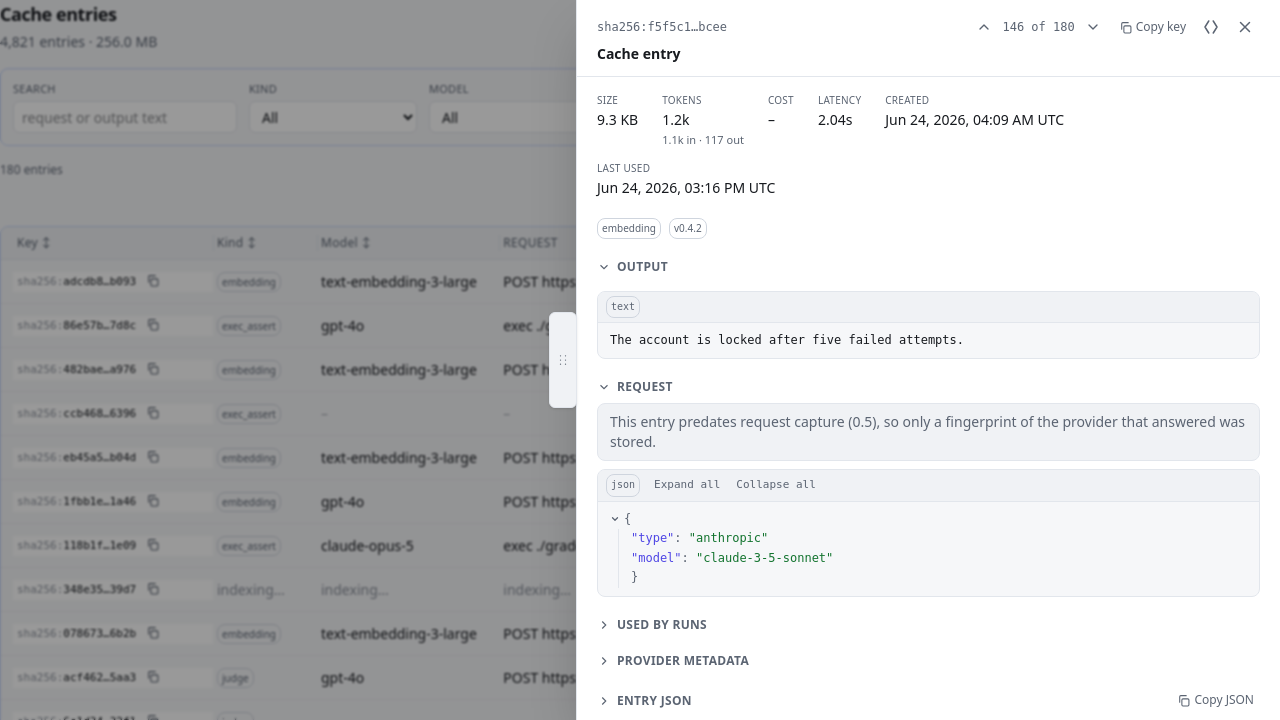
Scenario: CacheEntryDrawer › says an empty run list is not evidence the entry is unused
The width and height of the screenshot is (1280, 720).
Click the button "Used by runs" at (662,624), box x1=597 y1=616 x2=1260 y2=632
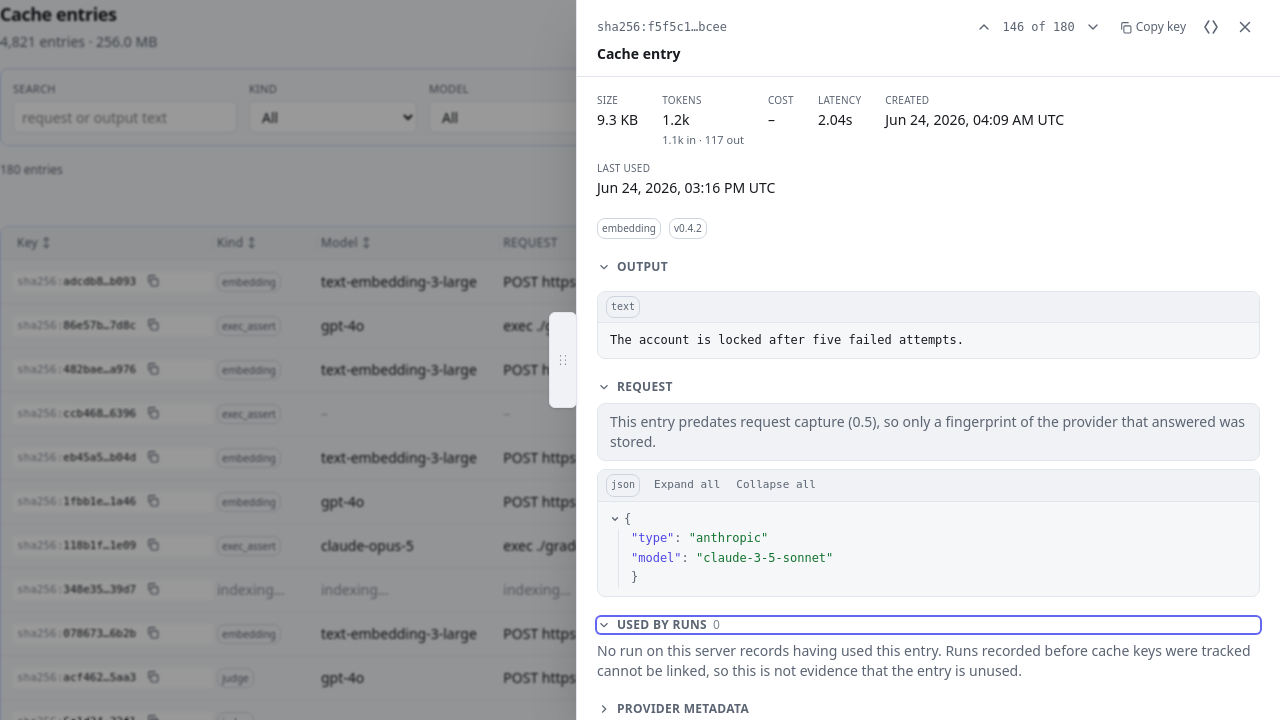
Now the text "not evidence that the entry is unused" is shown, box x1=597 y1=640 x2=1251 y2=680
